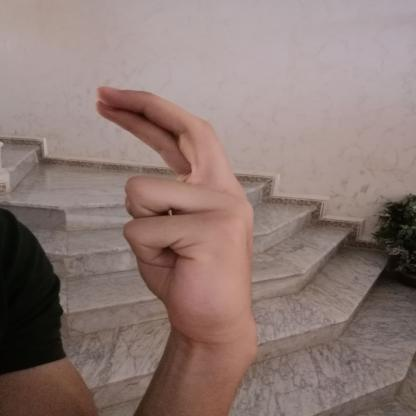ZAY: (80, 78, 267, 354)
